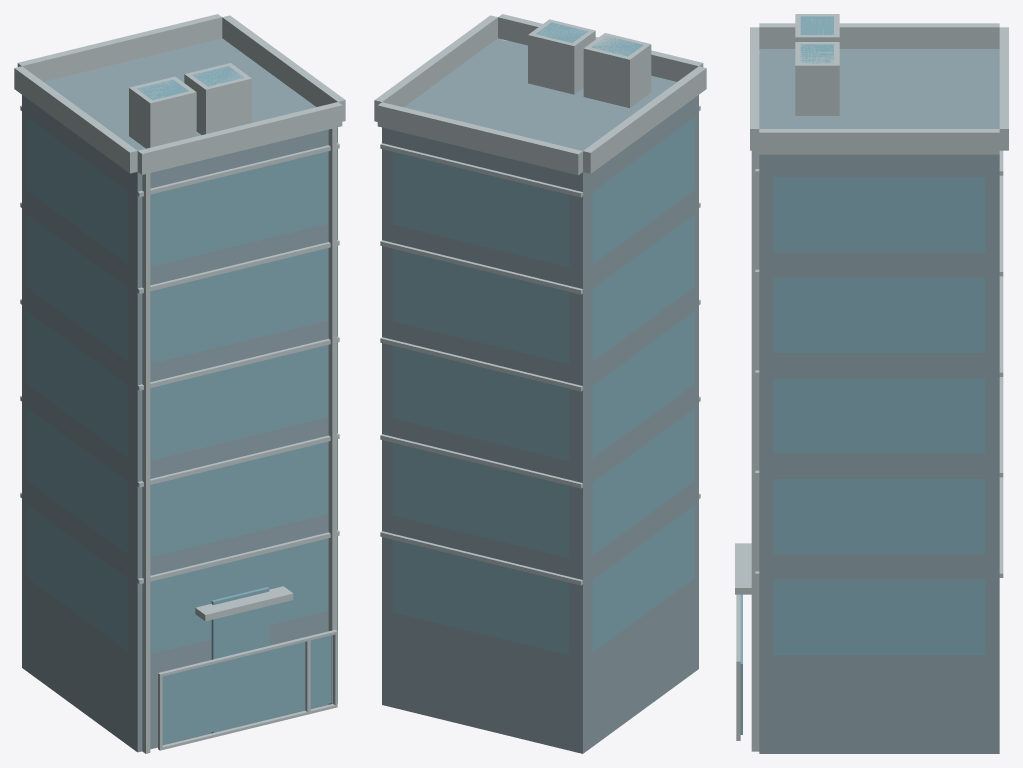
Rendered from commercial_1x1_b.glb.
3 views of the same model, side by side, from view 1: azimuth 30°, elevation 25°; view 2: azimuth 150°, elevation 25°; view 3: azimuth 270°, elevation 25° (orthographic). The views are drawn at different scales.
Parts seen in each view (by area): view 1: commercial_1x1_b_0; view 2: commercial_1x1_b_0; view 3: commercial_1x1_b_0.
Boxes of the visible parts, <box> form: commercial_1x1_b_0: <box>14,14,345,753</box>; commercial_1x1_b_0: <box>374,14,706,753</box>; commercial_1x1_b_0: <box>735,14,1008,753</box>.
Size of the model in its own units: 7 by 19.5 by 7.4.
